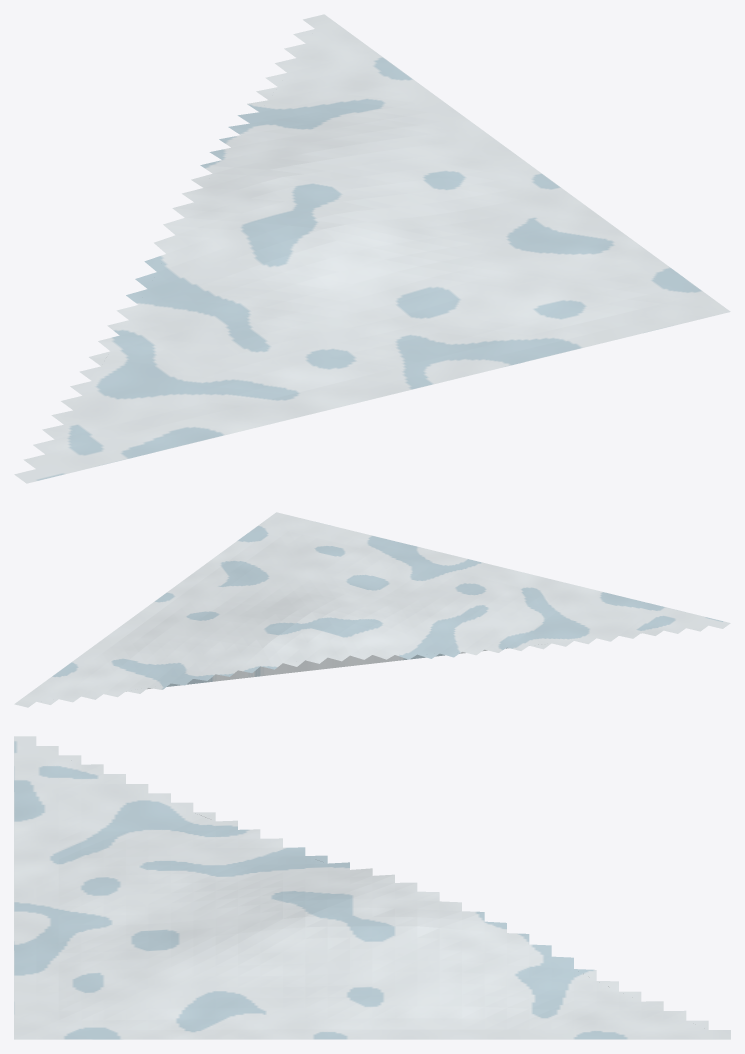
The model's file is Snow_Flat_03_NE.obj.
The picture shows the model from 3 angles, top to bottom: view 1: azimuth 30°, elevation 25°; view 2: azimuth 150°, elevation 25°; view 3: azimuth 270°, elevation 25°; orthographic projection. The views are drawn at different scales.
Size of the model in its own units: 10 by 0.286 by 10.
Materials: 1 (1 with a texture image).
